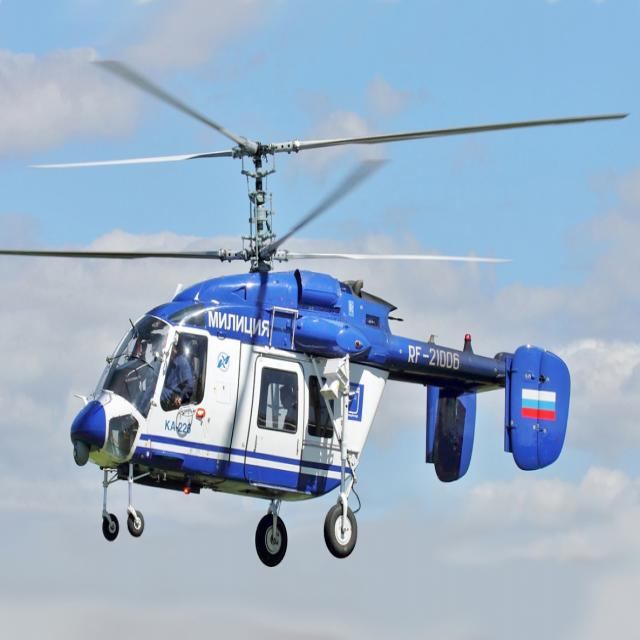helicopter: (23, 40, 638, 575)
